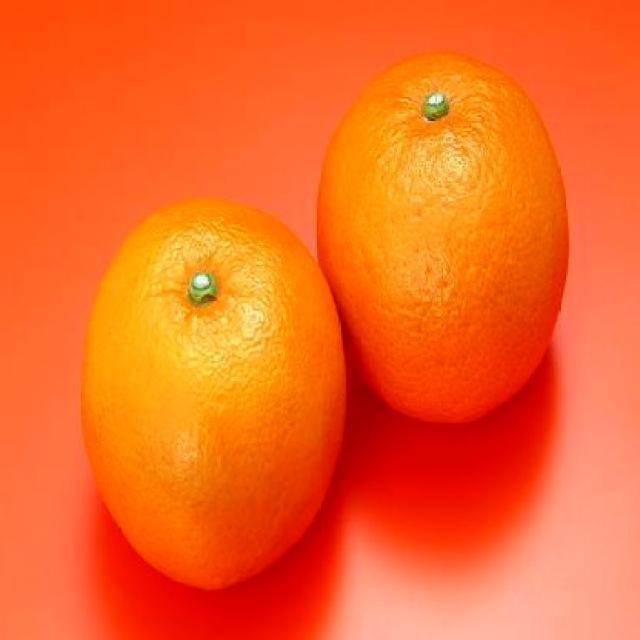Jeruk Sudah Matang: (80, 198, 346, 584), (313, 49, 569, 417)
